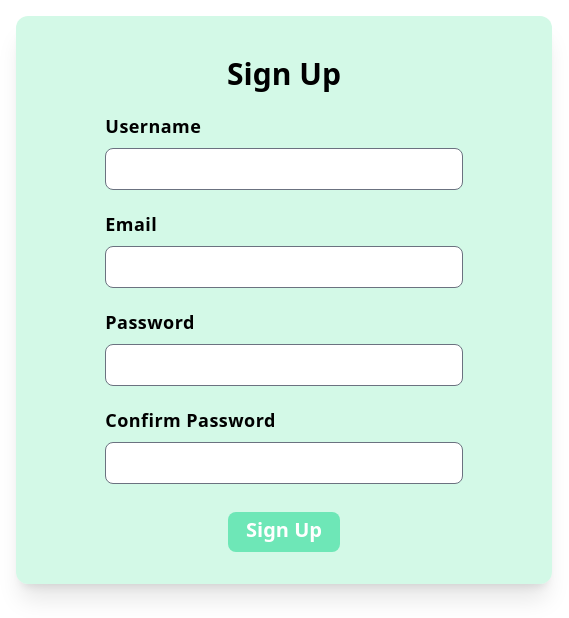
Scenario: SignUpPage › Interactions › enables the button when password and repeatpassword equals
Type "P4ssword" into the password field labelled "Password".
click(284, 365); type("P4ssword")  # box [105,344,463,386]
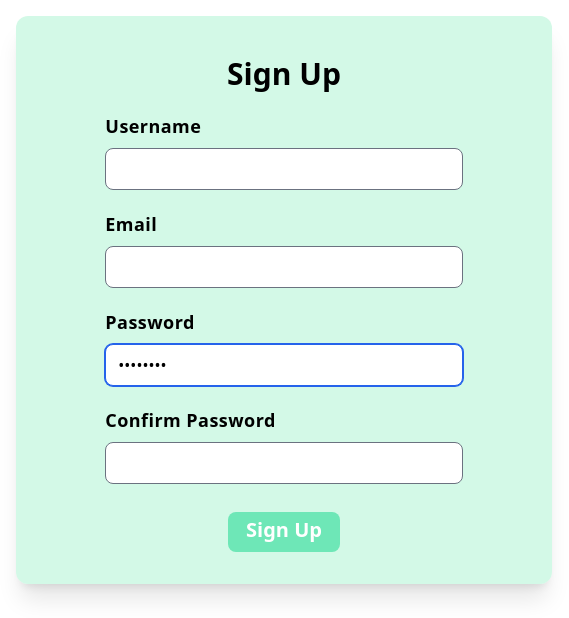
Type "P4ssword" into the password field labelled "Confirm Password".
click(284, 463); type("P4ssword")  # box [105,442,463,484]
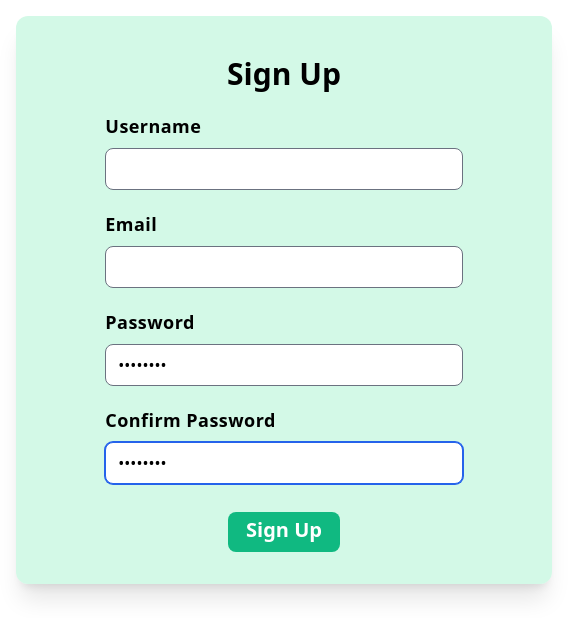
Expected: the button "Sign Up" is enabled, [228,512,340,552]
